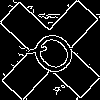Q: (25, 25, 87, 86)
